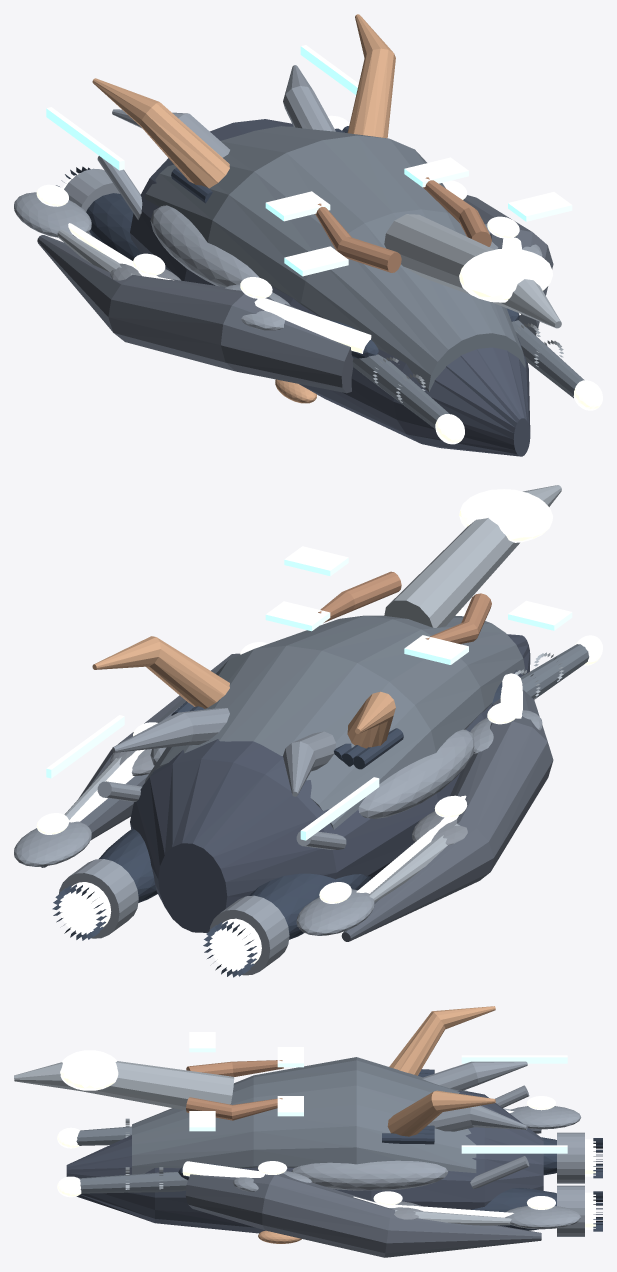
File: npc_recruitStreuner.glb
3 renders of one model, top to bottom at view 1: azimuth 30°, elevation 25°; view 2: azimuth 150°, elevation 25°; view 3: azimuth 270°, elevation 25°, orthographic. The views are drawn at different scales.
Visible parts, largest first — view 1: upper_armor_scar, armored_scythe_-1, keel_pressure_hull, V59 trim baked, scout_extended_radar, scout_raised_sweep_-1, heavy_shield_pad_-1, scout_raised_sweep_1, scout_radar_blue, energy_etched_rail_-1, long_plasma_cannon_-1, engine_armor_-1 (+14 smaller); view 2: upper_armor_scar, keel_pressure_hull, armored_scythe_-1, scout_extended_radar, V59 trim baked, heavy_shield_pad_-1, scout_raised_sweep_1, scout_radar_blue, predator_dorsal_fang_1, exhaust_coil_-1, exhaust_coil_1, engine_armor_-1 (+21 smaller); view 3: upper_armor_scar, armored_scythe_1, keel_pressure_hull, scout_extended_radar, V59 trim baked, heavy_shield_pad_1, scout_raised_sweep_-1, scout_raised_sweep_1, scout_radar_blue, long_plasma_cannon_1, predator_dorsal_fang_-1, energy_etched_rail_1 (+22 smaller).
Boxes of the visible parts, left/top/right/bottom form: upper_armor_scar: left=144, top=126, right=525, bottom=391; armored_scythe_-1: left=37, top=235, right=353, bottom=393; keel_pressure_hull: left=130, top=119, right=530, bottom=456; V59 trim baked: left=46, top=45, right=572, bottom=276; scout_extended_radar: left=384, top=214, right=561, bottom=328; scout_raised_sweep_-1: left=92, top=78, right=229, bottom=188; heavy_shield_pad_-1: left=150, top=205, right=258, bottom=287; scout_raised_sweep_1: left=347, top=14, right=395, bottom=138; scout_radar_blue: left=459, top=248, right=552, bottom=302; energy_etched_rail_-1: left=68, top=223, right=371, bottom=353; long_plasma_cannon_-1: left=352, top=354, right=449, bottom=428; engine_armor_-1: left=86, top=193, right=141, bottom=260; upper_armor_scar: left=144, top=615, right=525, bottom=829; keel_pressure_hull: left=130, top=634, right=530, bottom=932; armored_scythe_-1: left=341, top=690, right=553, bottom=941; scout_extended_radar: left=384, top=485, right=561, bottom=627; V59 trim baked: left=46, top=546, right=572, bottom=840; heavy_shield_pad_-1: left=358, top=729, right=474, bottom=818; scout_raised_sweep_1: left=92, top=636, right=229, bottom=708; scout_radar_blue: left=459, top=489, right=552, bottom=542; predator_dorsal_fang_1: left=112, top=708, right=229, bottom=752; exhaust_coil_-1: left=209, top=895, right=289, bottom=975; exhaust_coil_1: left=58, top=859, right=138, bottom=938; engine_armor_-1: left=249, top=873, right=370, bottom=939; upper_armor_scar: left=132, top=1057, right=476, bottom=1174; armored_scythe_1: left=185, top=1173, right=541, bottom=1257; keel_pressure_hull: left=66, top=1091, right=543, bottom=1233; scout_extended_radar: left=14, top=1061, right=234, bottom=1110; V59 trim baked: left=189, top=1032, right=567, bottom=1153; heavy_shield_pad_1: left=291, top=1160, right=447, bottom=1190; scout_raised_sweep_-1: left=389, top=1006, right=495, bottom=1075; scout_raised_sweep_1: left=387, top=1090, right=495, bottom=1136; scout_radar_blue: left=60, top=1050, right=118, bottom=1090; long_plasma_cannon_1: left=79, top=1172, right=187, bottom=1193; predator_dorsal_fang_-1: left=422, top=1061, right=527, bottom=1090; energy_etched_rail_1: left=182, top=1161, right=513, bottom=1217.
Size of the model in its own units: 1.84 by 1.1 by 3.36.
